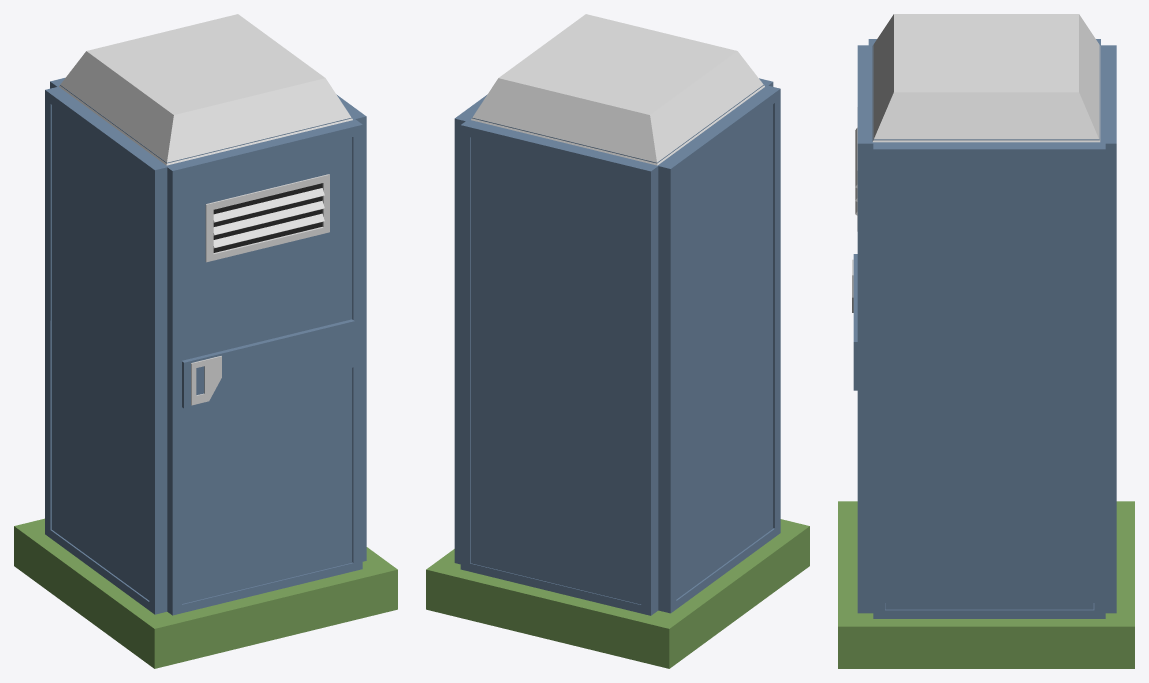
Rendered from temporary_toilet_middle.fbx.
3 views of the same model, side by side, from view 1: azimuth 30°, elevation 25°; view 2: azimuth 150°, elevation 25°; view 3: azimuth 270°, elevation 25° (orthographic). The views are drawn at different scales.
Visible parts, largest first — view 1: pCube24; view 2: pCube24; view 3: pCube24.
Part boxes in pixels (x1=…): pCube24: x1=14, y1=14, x2=397, y2=668; pCube24: x1=426, y1=14, x2=809, y2=668; pCube24: x1=838, y1=14, x2=1134, y2=668.
Bounding box in the file's own units: 130 × 267 × 130.
